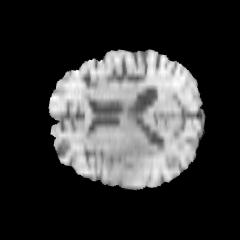glioma: (108, 140, 159, 181)
